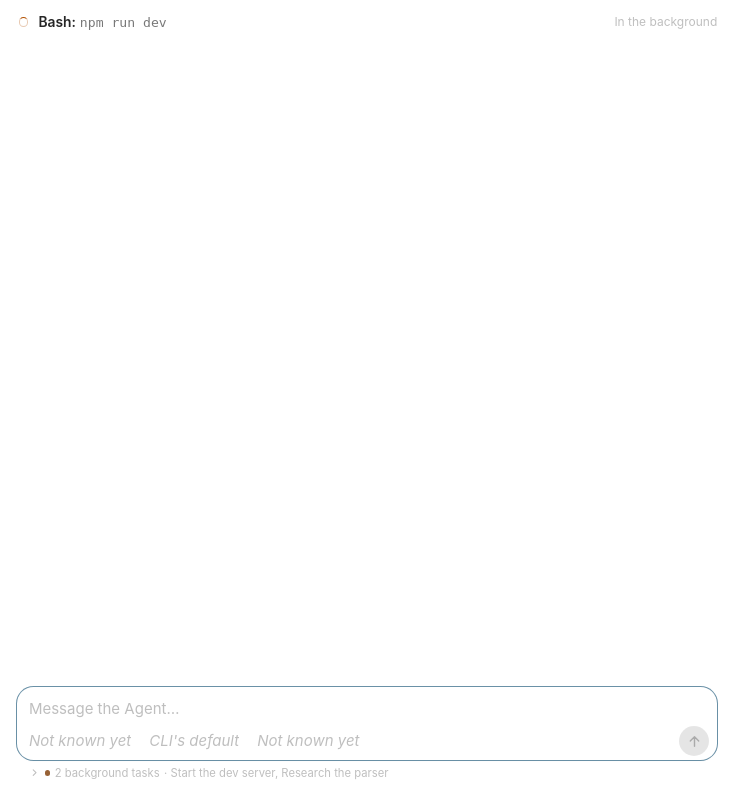
Test: stopping a background task › has Stop at the right end of each task's line
The width and height of the screenshot is (735, 798).
Click the button named "background tasks?": [209, 773] box [29,764,388,782]
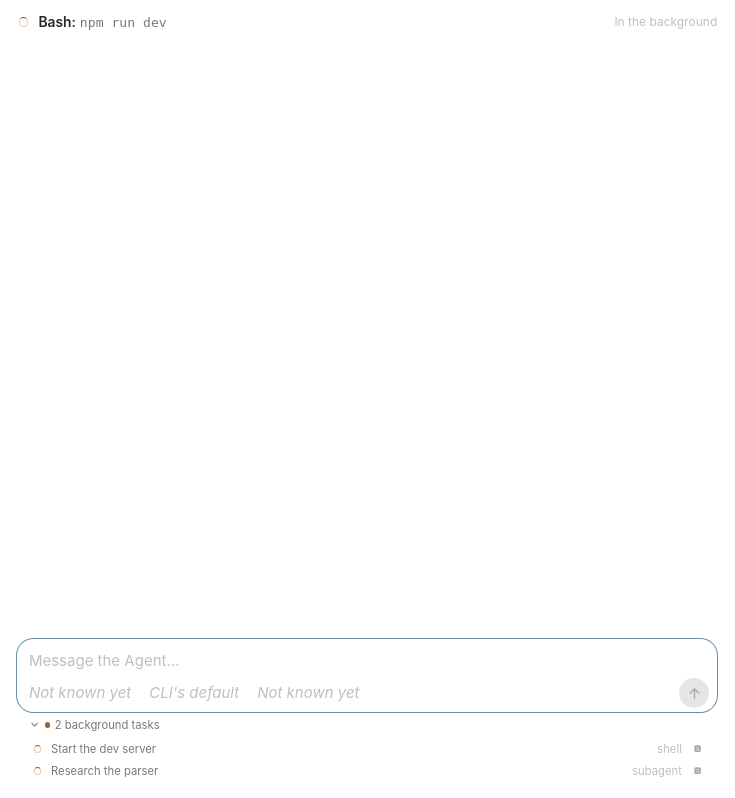
Now the 1st button named "Stop" is enabled, box [690,741,705,757]
Now the button named "Stop" next to "subagent" is enabled, box [690,763,705,779]
